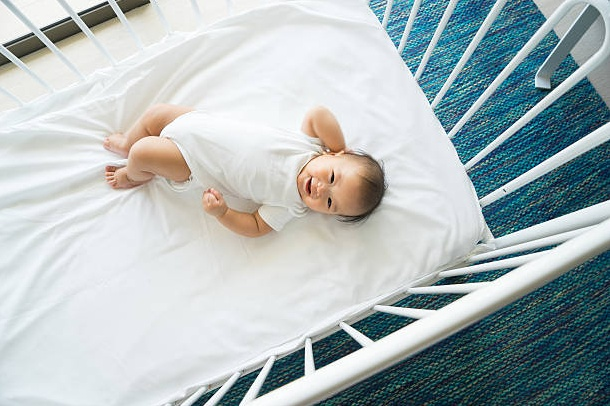baby: (104, 104, 385, 236)
crib: (0, 0, 609, 404)
